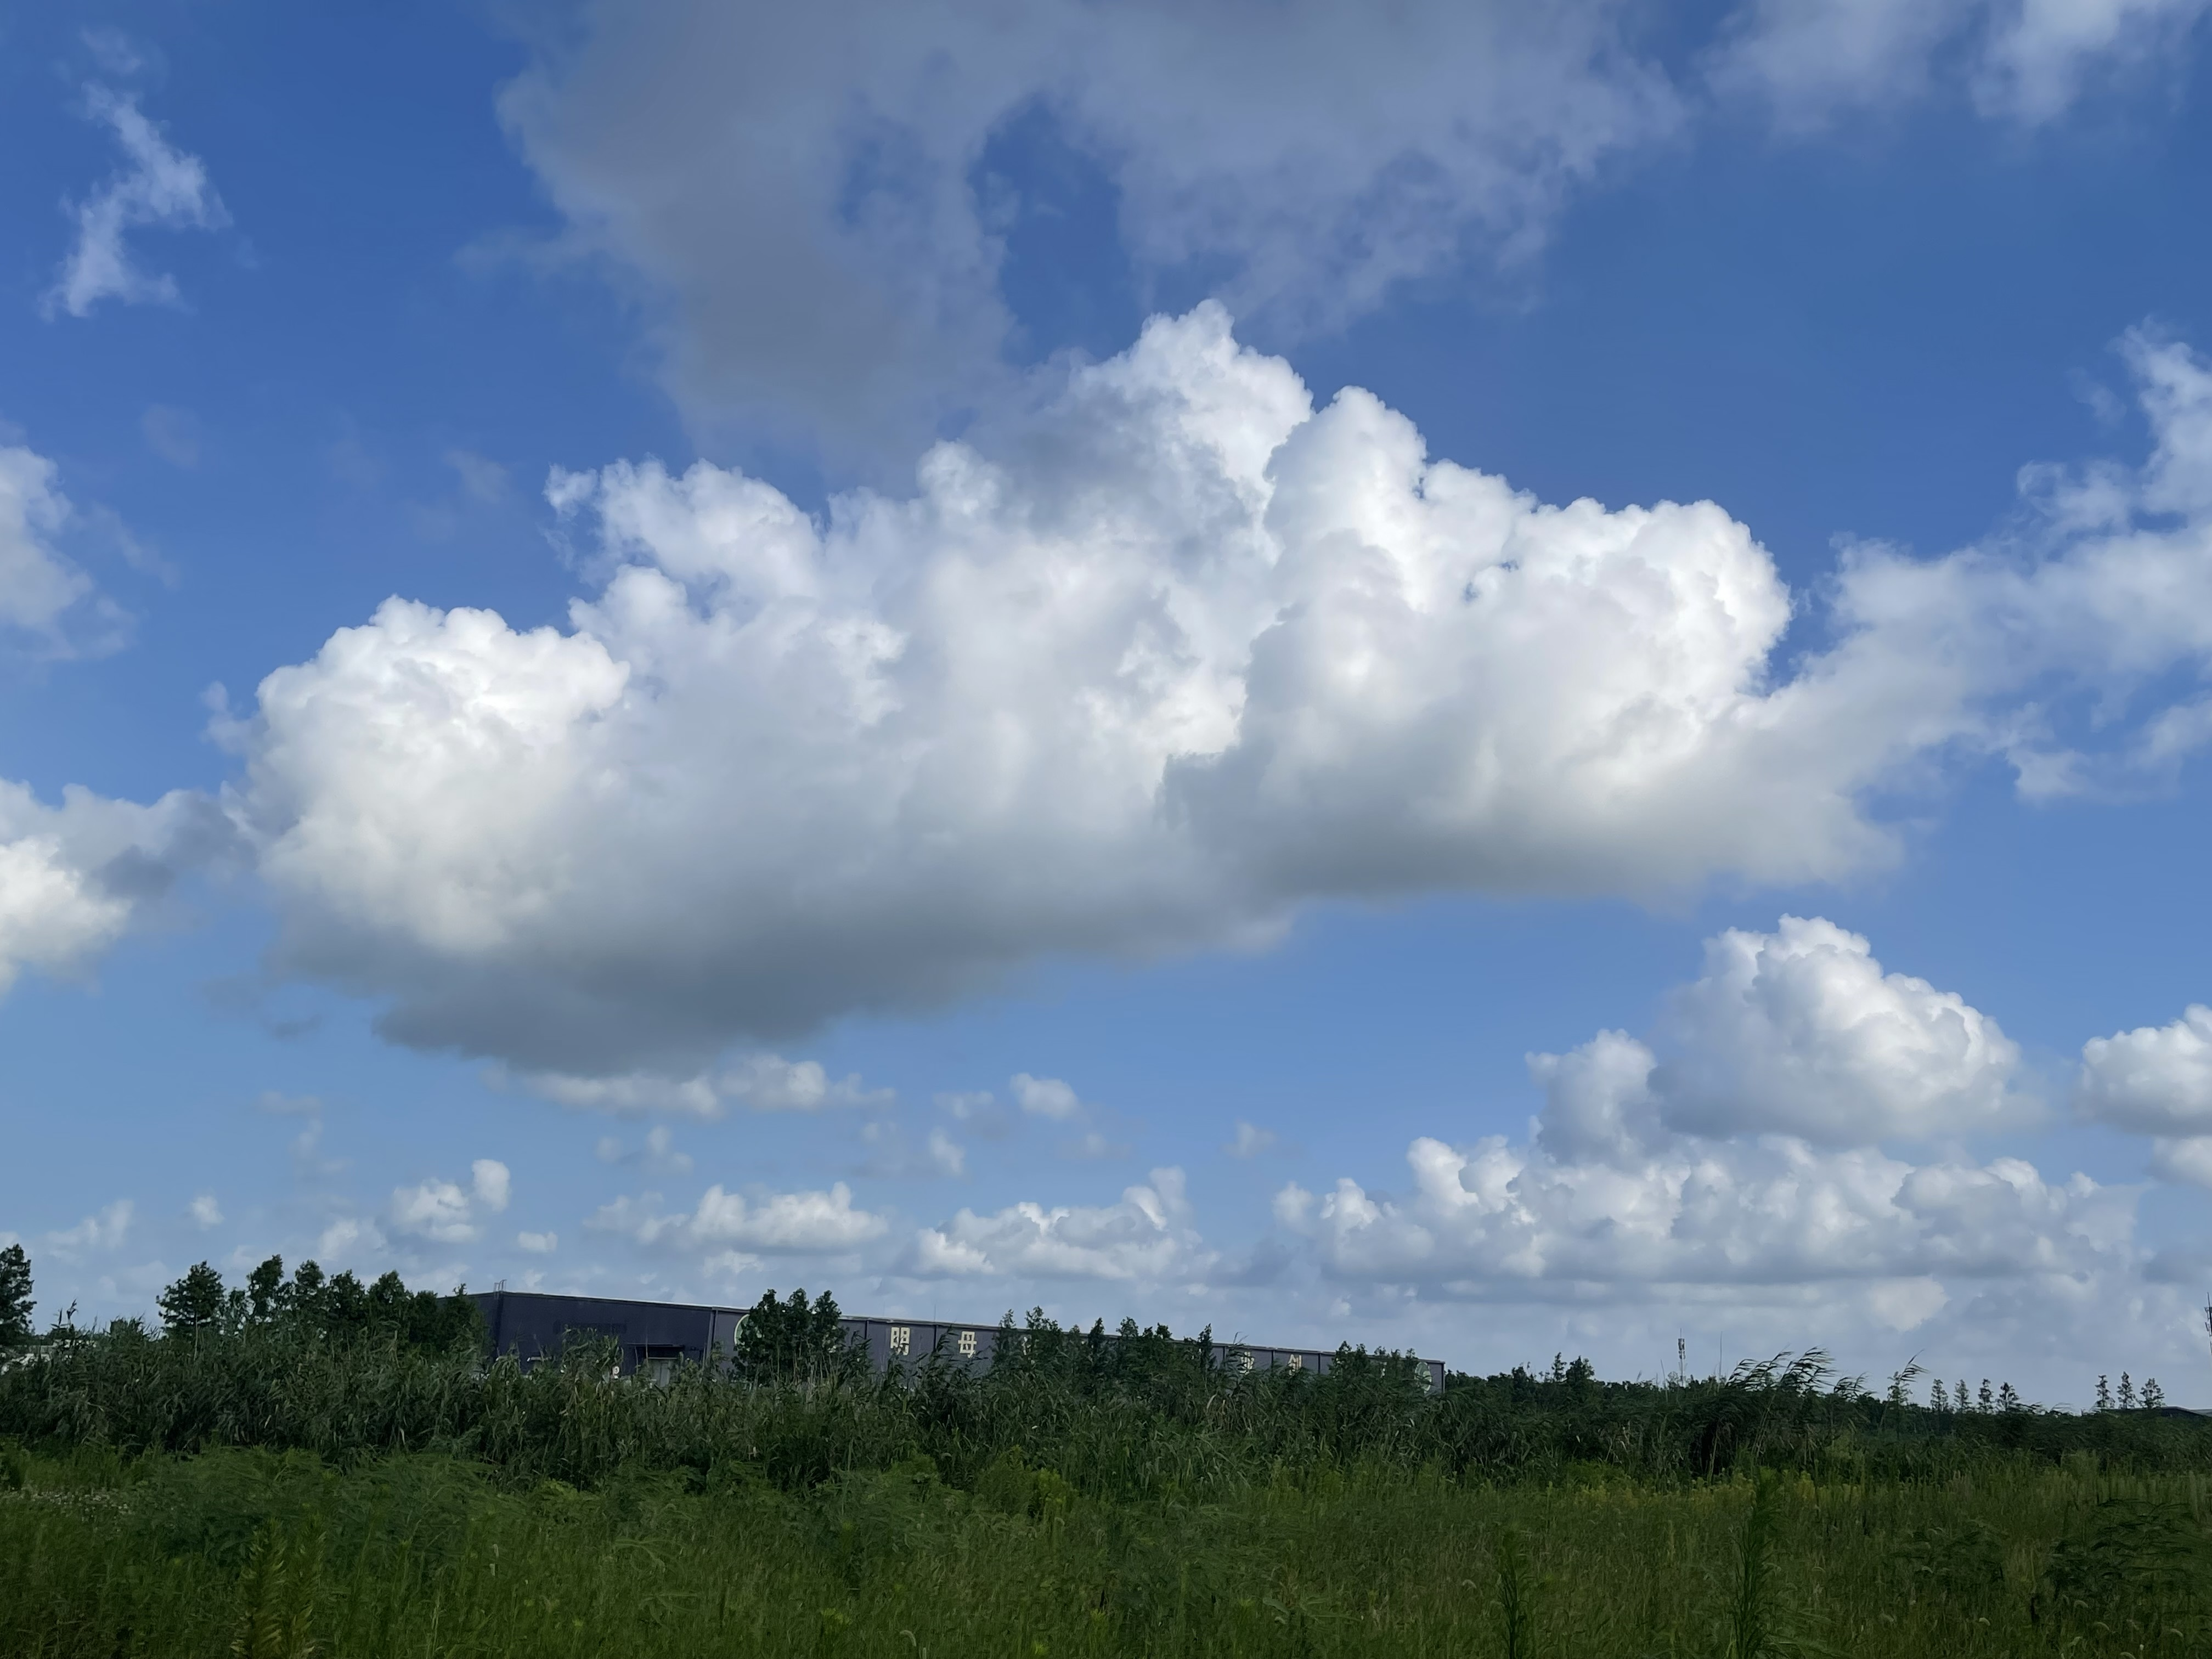Cumulus: (195, 307, 1851, 1037), (1313, 915, 2212, 1309)
